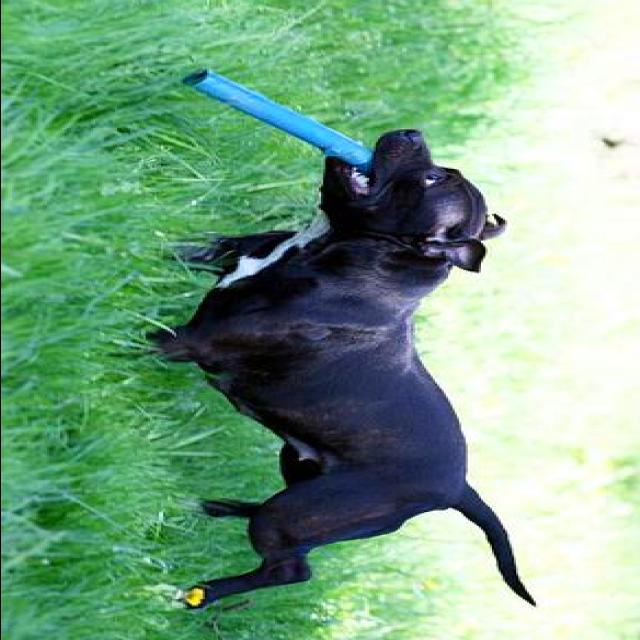staffordshire_bullterrier: (105, 130, 537, 608)
